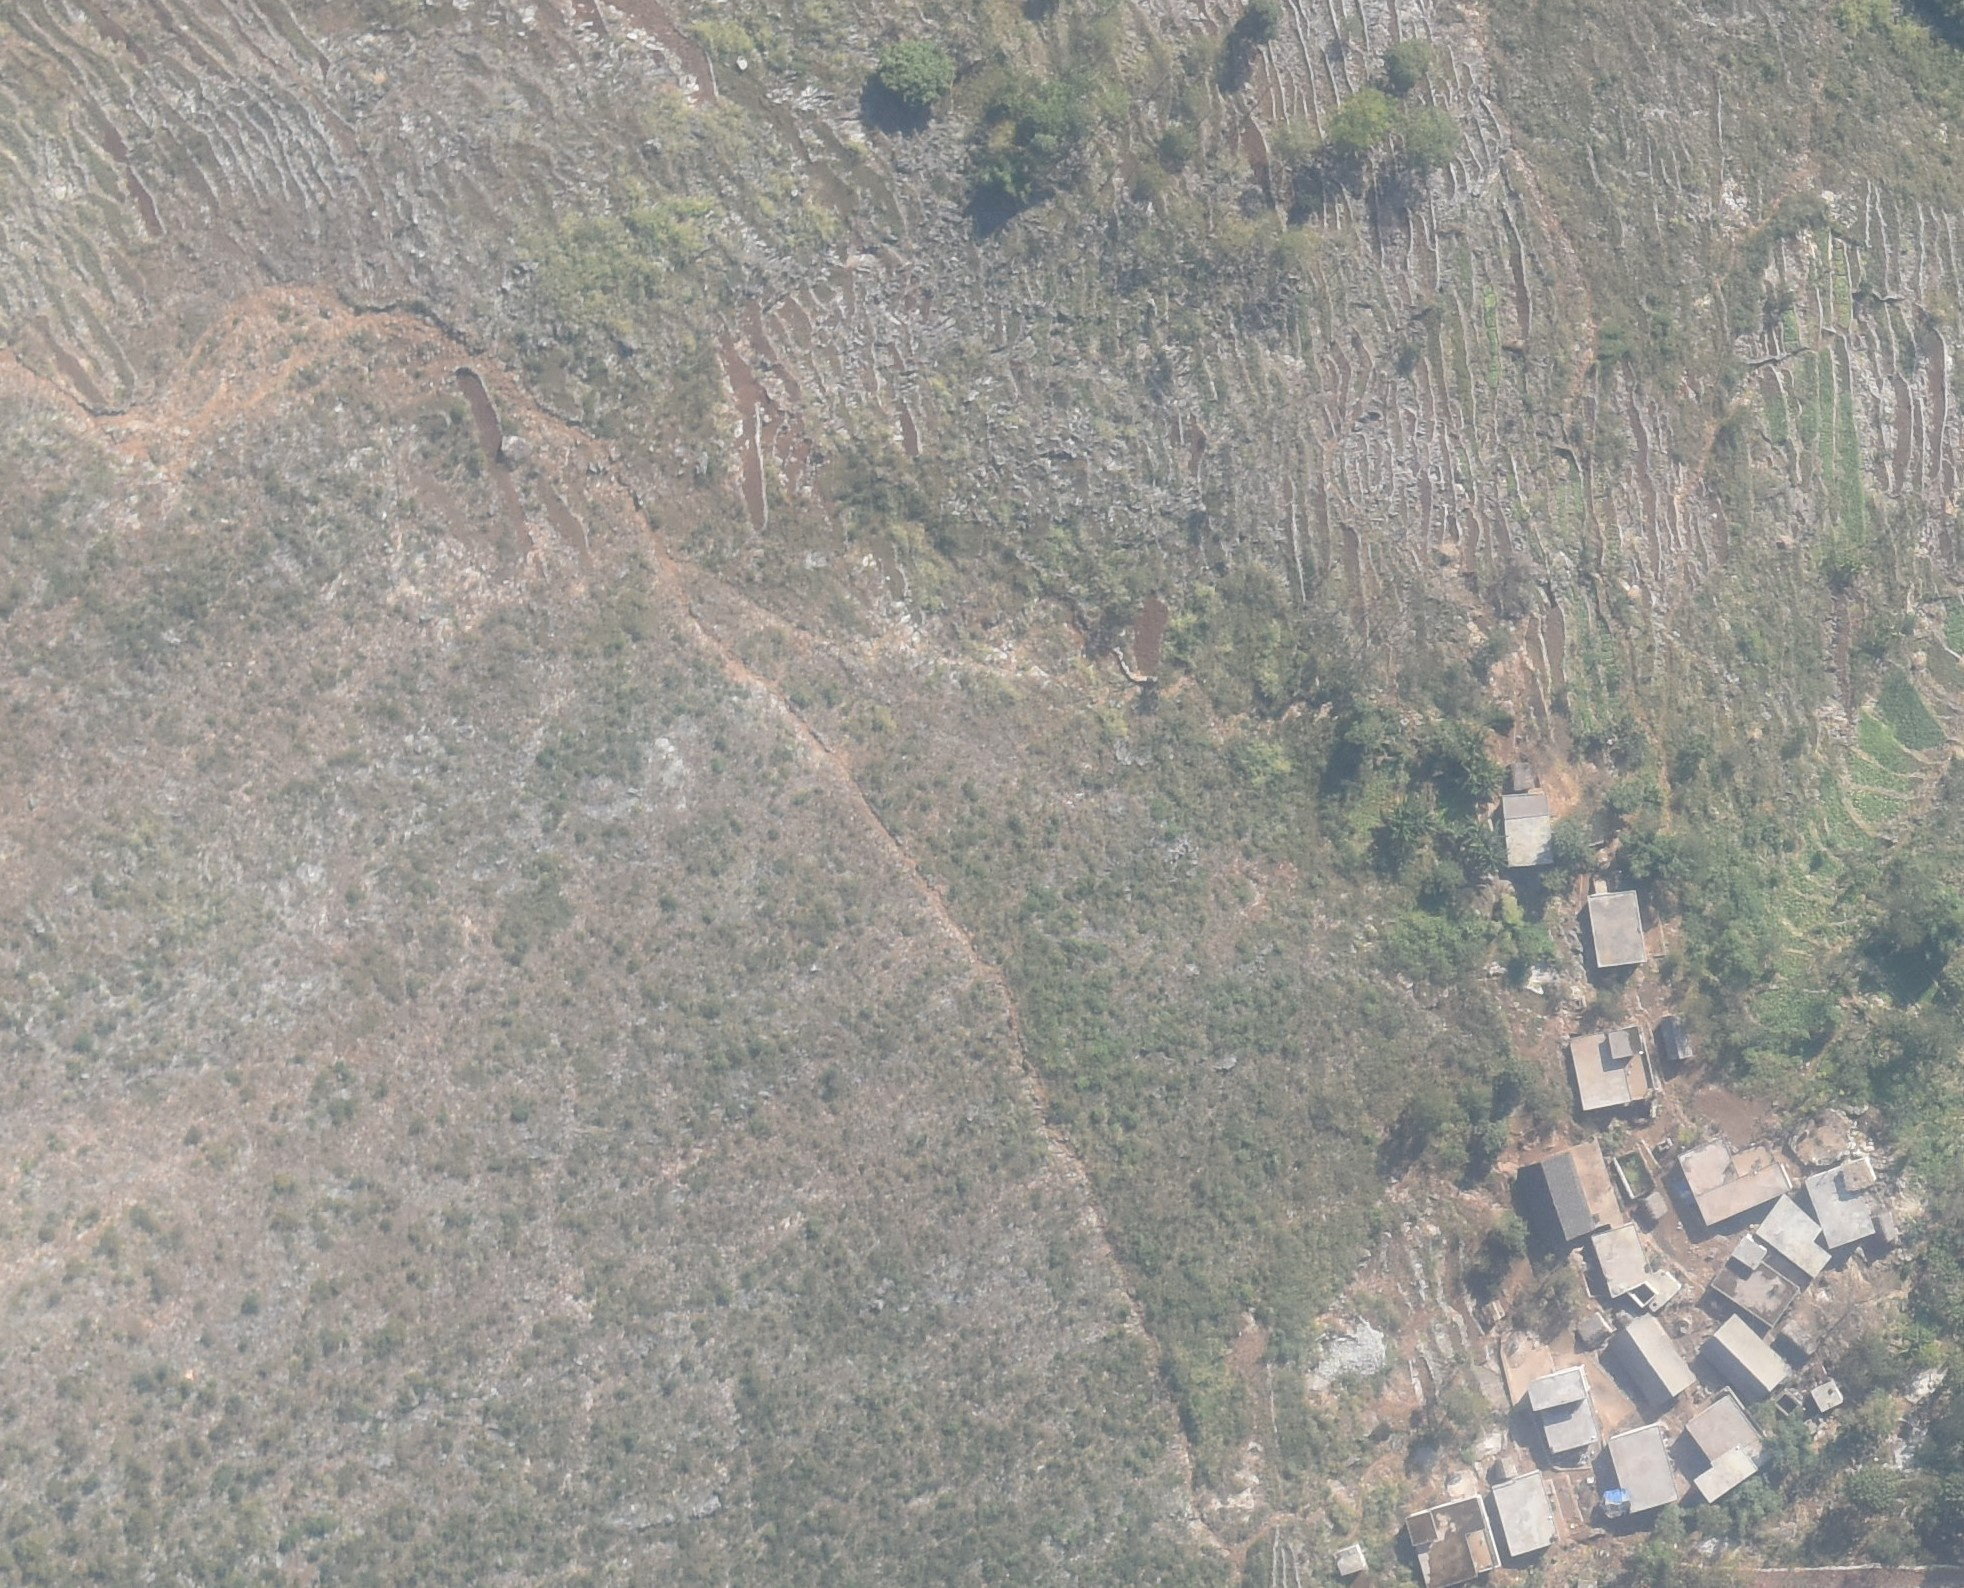building: (1675, 1138, 1795, 1227), (1404, 1493, 1501, 1586), (1687, 1387, 1764, 1503), (1712, 1234, 1799, 1329), (1611, 1312, 1698, 1407), (1541, 1139, 1622, 1239), (1567, 1025, 1656, 1114), (1591, 1223, 1681, 1311), (1701, 1314, 1791, 1395), (1804, 1156, 1877, 1249), (1756, 1194, 1832, 1281), (1606, 1422, 1679, 1512), (1492, 1456, 1557, 1556), (1528, 1367, 1601, 1453), (1586, 889, 1647, 966), (1502, 793, 1555, 868), (1663, 1013, 1694, 1061), (1332, 1544, 1366, 1577), (1810, 1382, 1844, 1413), (1576, 1311, 1609, 1342), (1510, 762, 1532, 791)
